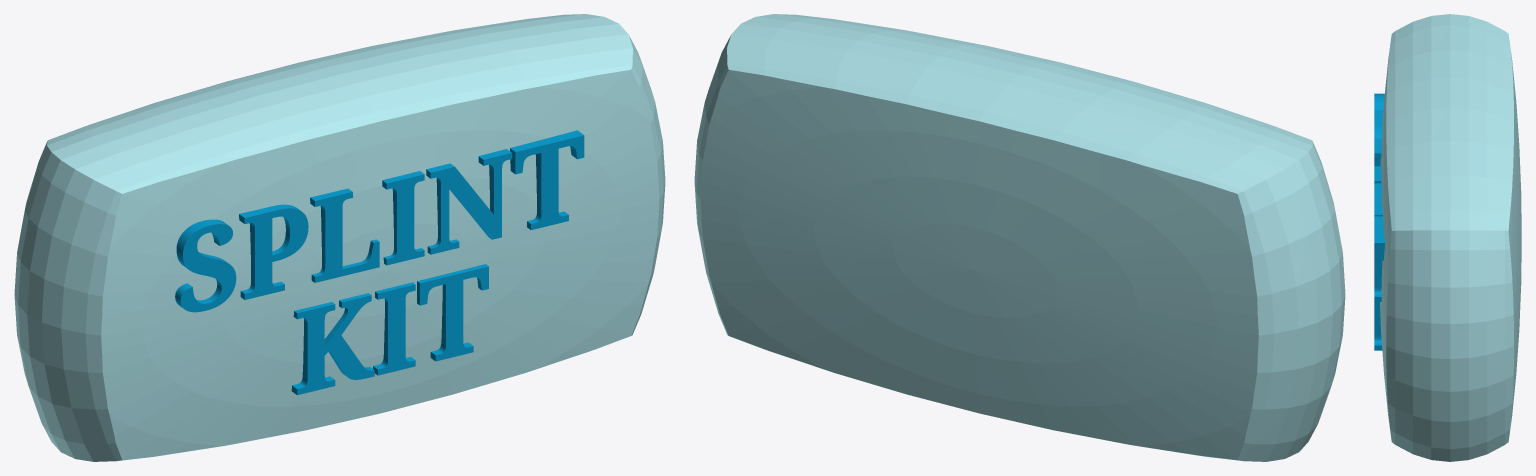
Rendered from tinker.obj.
The picture shows the model from 3 angles, left to right: view 1: azimuth 30°, elevation 25°; view 2: azimuth 150°, elevation 25°; view 3: azimuth 270°, elevation 25°; orthographic projection. The views are drawn at different scales.
Parts seen in each view (by area): view 1: obj_0, obj_1, obj_2; view 2: obj_0; view 3: obj_0, obj_1, obj_2.
Boxes of the visible parts, <box> form: obj_0: <box>14,14,665,461</box>; obj_1: <box>175,130,584,312</box>; obj_2: <box>291,264,488,395</box>; obj_0: <box>694,14,1345,461</box>; obj_0: <box>1380,14,1521,461</box>; obj_1: <box>1374,93,1385,301</box>; obj_2: <box>1374,302,1382,350</box>.
Bounding box in the file's own units: 9 × 4.5 × 2.32.
